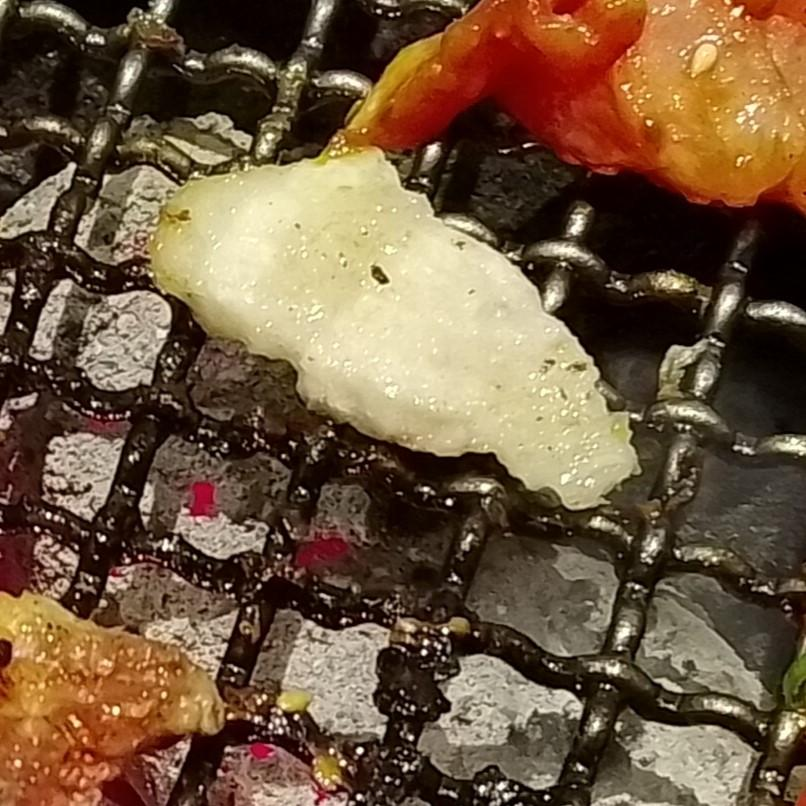Overcooked: (0, 593, 226, 805)
Undercooked: (151, 150, 639, 512), (338, 0, 805, 215)
